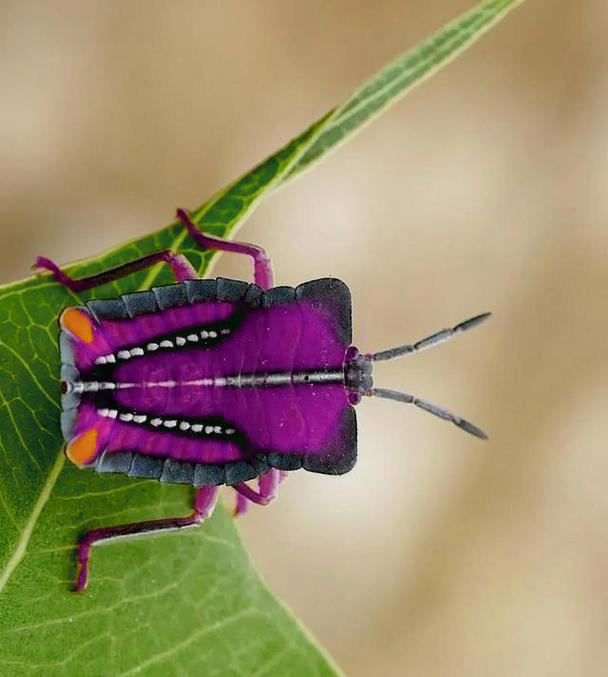Stink_Bug: (54, 240, 430, 507)
